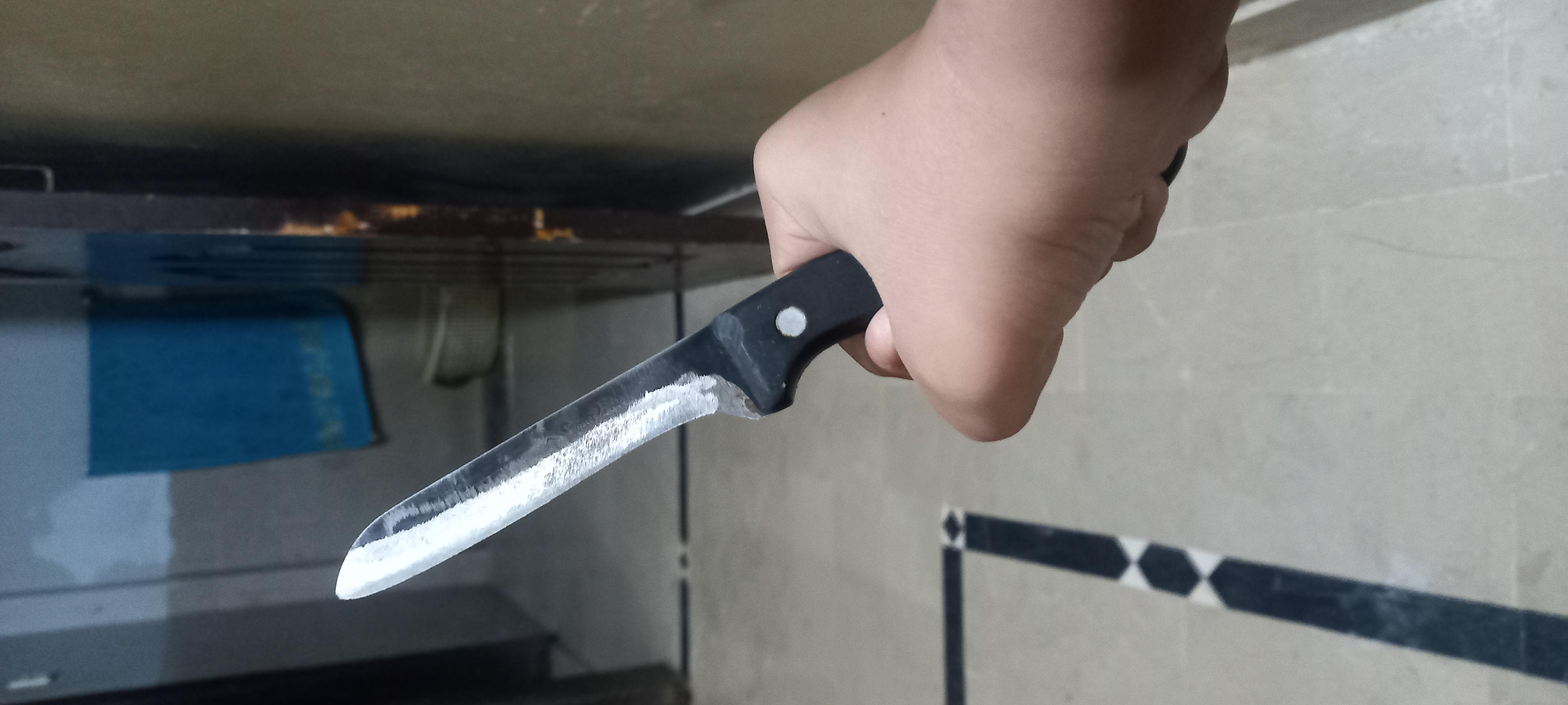knives: (220, 144, 1083, 429)
